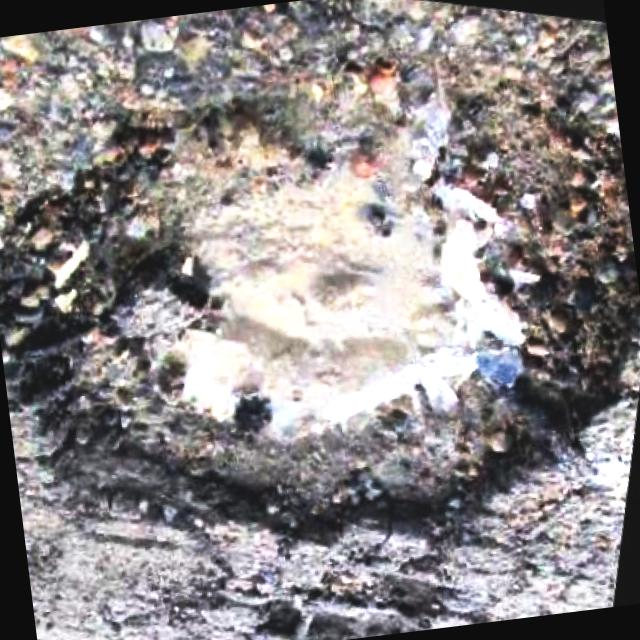pothole: (0, 0, 640, 587), (259, 553, 465, 640)
